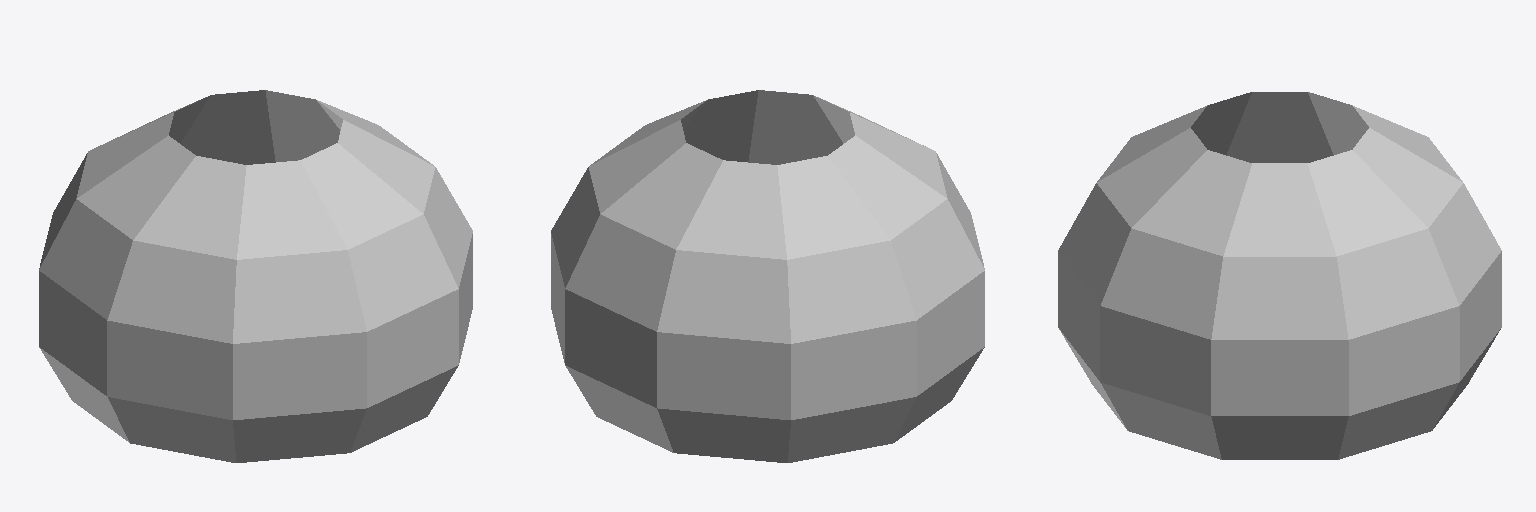
Rendered from pendantlampshade.obj.
3 views of the same model, side by side, from view 1: azimuth 30°, elevation 25°; view 2: azimuth 150°, elevation 25°; view 3: azimuth 270°, elevation 25° (orthographic).
Parts seen in each view (by area): view 1: Cube; view 2: Cube; view 3: Cube.
Boxes of the visible parts, x1,y1,x2,y2 form: Cube: [39, 90, 472, 462]; Cube: [551, 90, 984, 462]; Cube: [1058, 92, 1501, 459].
Size of the model in its own units: 0.5247 by 0.3521 by 0.5517.